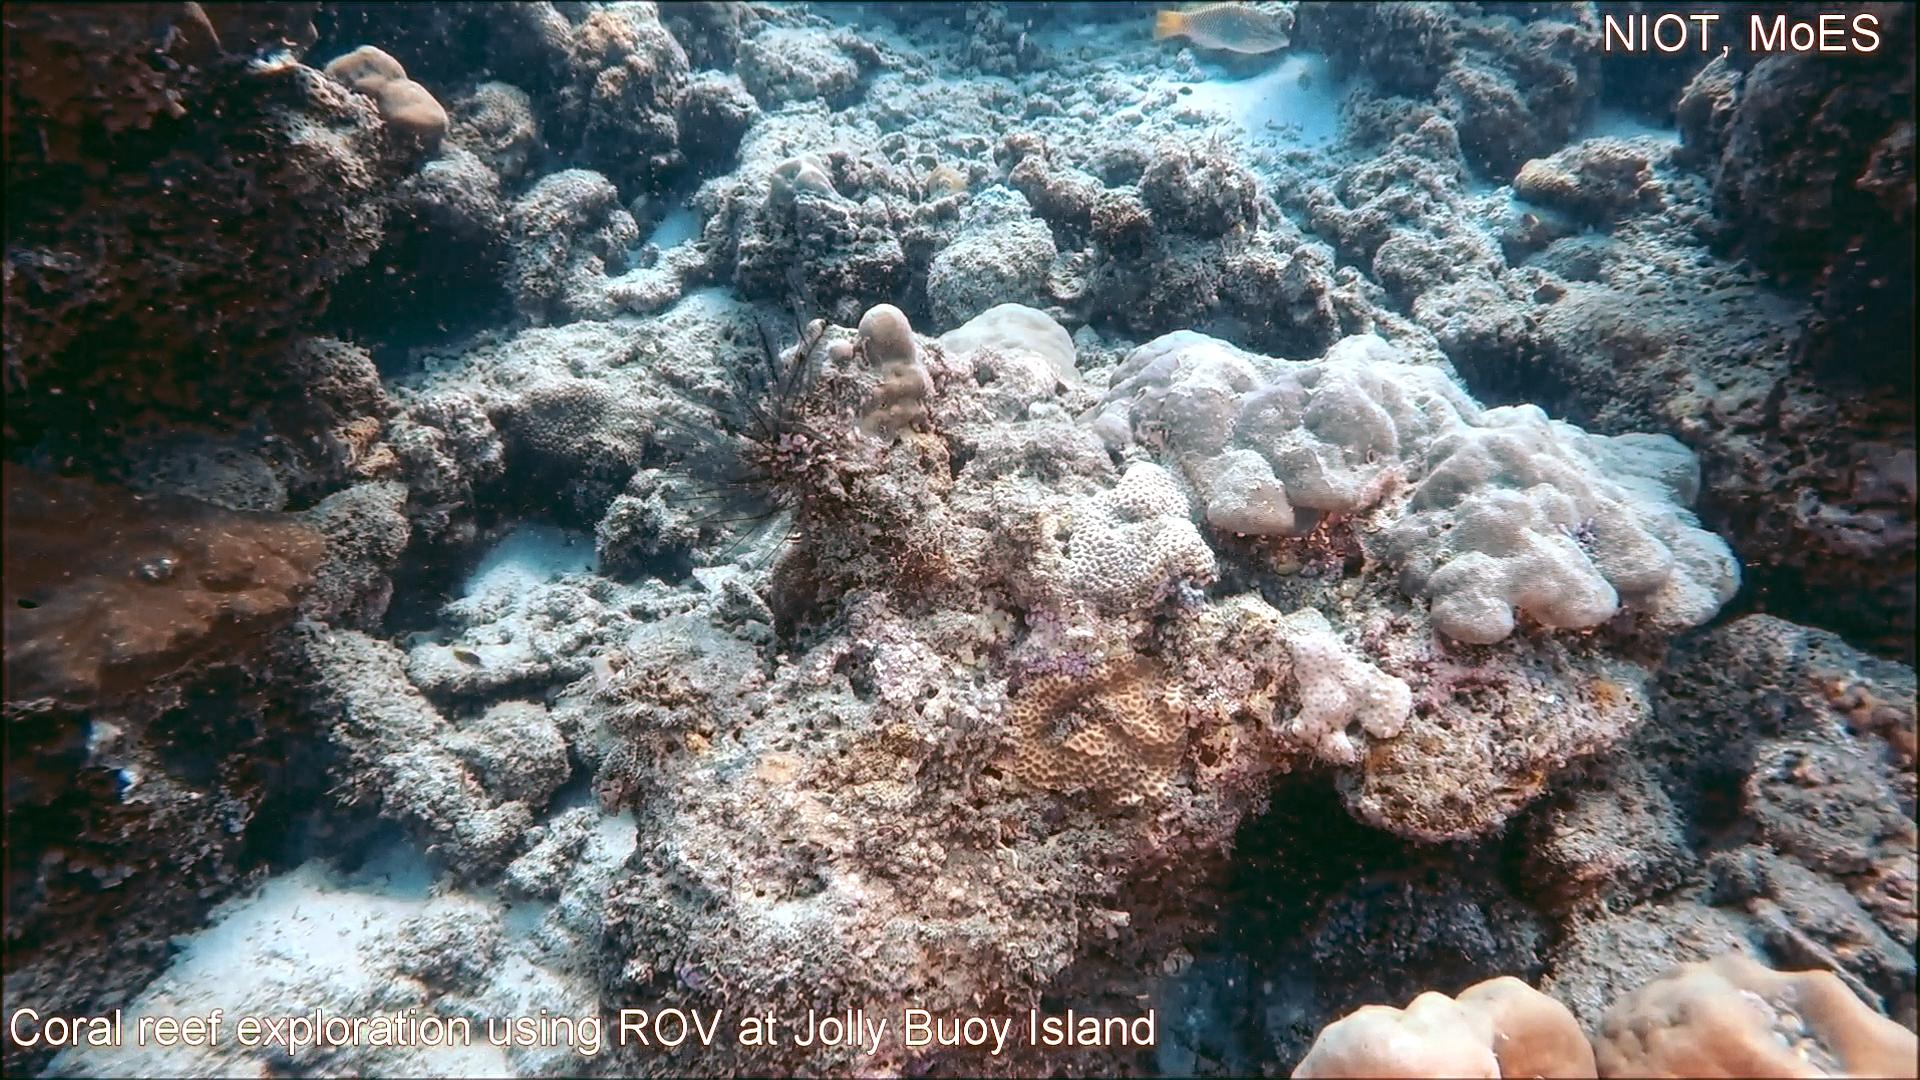Favites-Favites vasta: (1005, 646, 1201, 810)
Feather star-Crinoid star: (647, 248, 840, 603)
Goniastrea-Goniastrea pectinata: (1060, 454, 1222, 618)
Porites-Porites pukoensis: (1298, 326, 1747, 654)
Turbinaria-Turbinaria stellulata: (483, 375, 646, 488)
